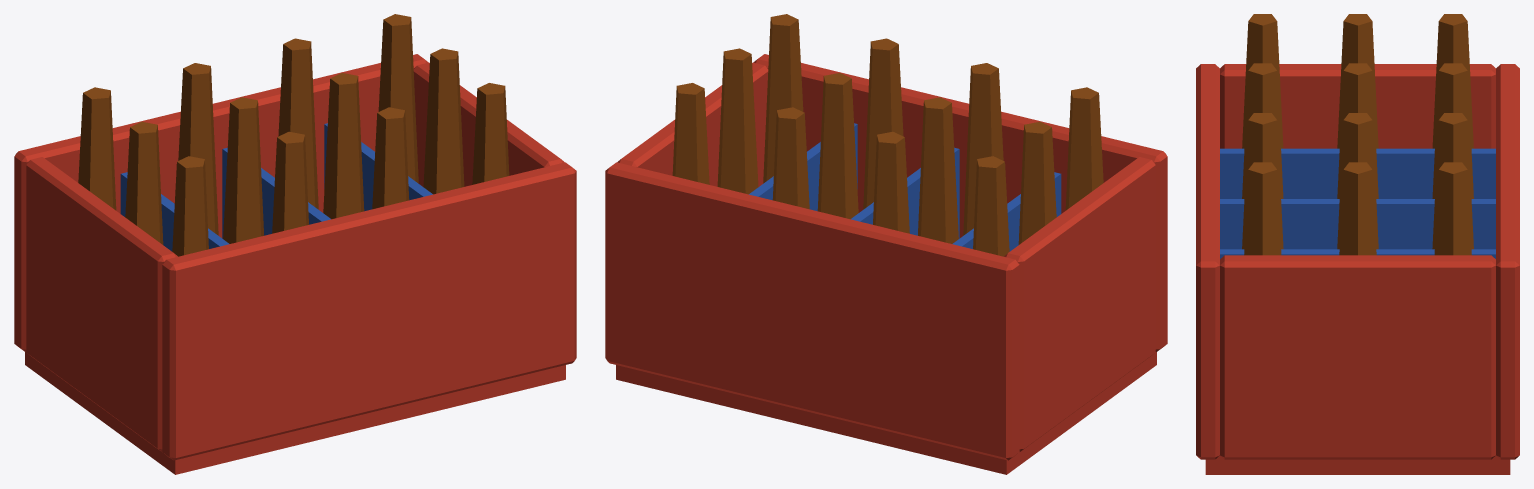
File: beer_crate.glb
3 views of the same model, side by side, from view 1: azimuth 30°, elevation 25°; view 2: azimuth 150°, elevation 25°; view 3: azimuth 270°, elevation 25° (orthographic).
Visible parts, largest first — view 1: beer_crate; view 2: beer_crate; view 3: beer_crate.
Part boxes in pixels (box(x1,y1,x2,y2)): beer_crate: box(14, 14, 576, 474); beer_crate: box(605, 14, 1167, 474); beer_crate: box(1196, 14, 1519, 474).
Size of the model in its own units: 0.5 by 0.33 by 0.34.
